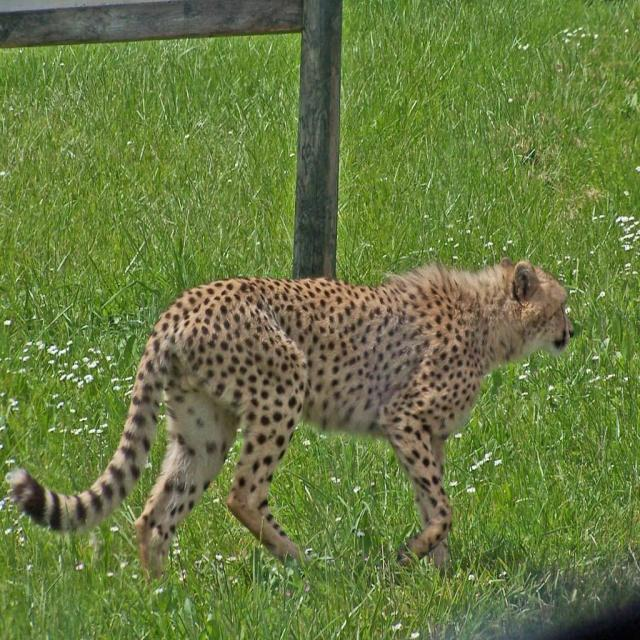Cheetah: (4, 252, 591, 594)
